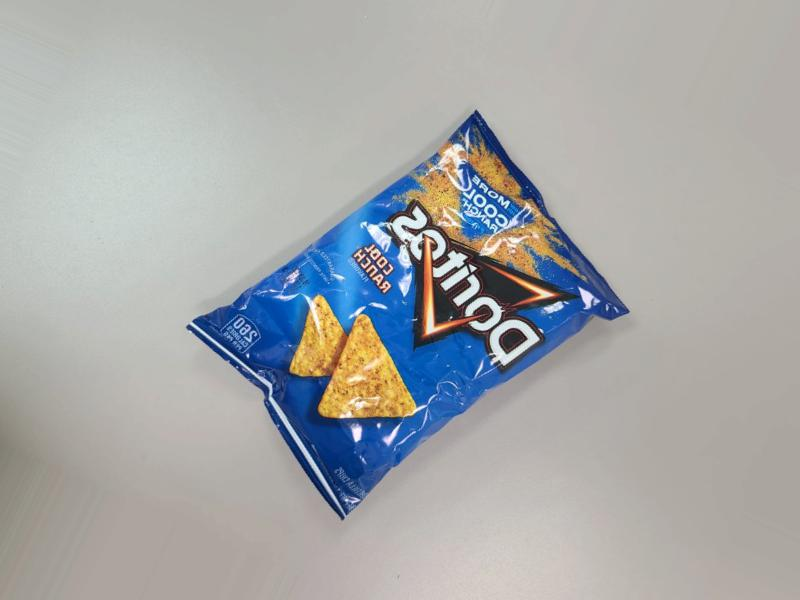doritos: (259, 176, 636, 510)
